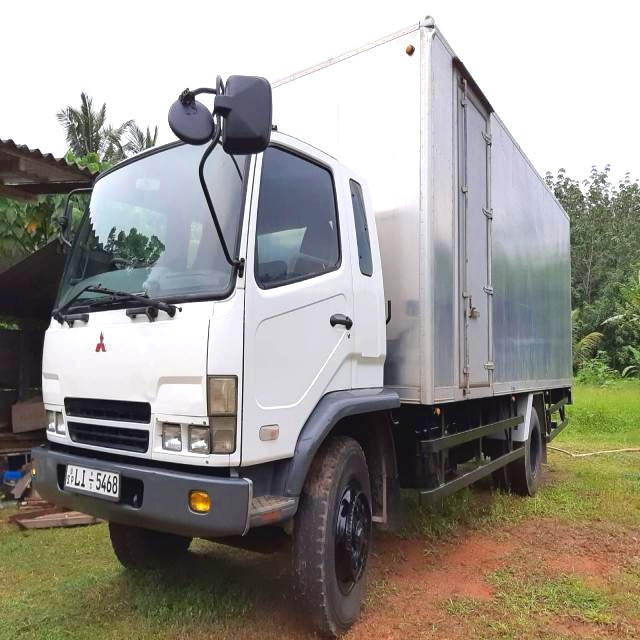truck: (13, 6, 632, 640)
